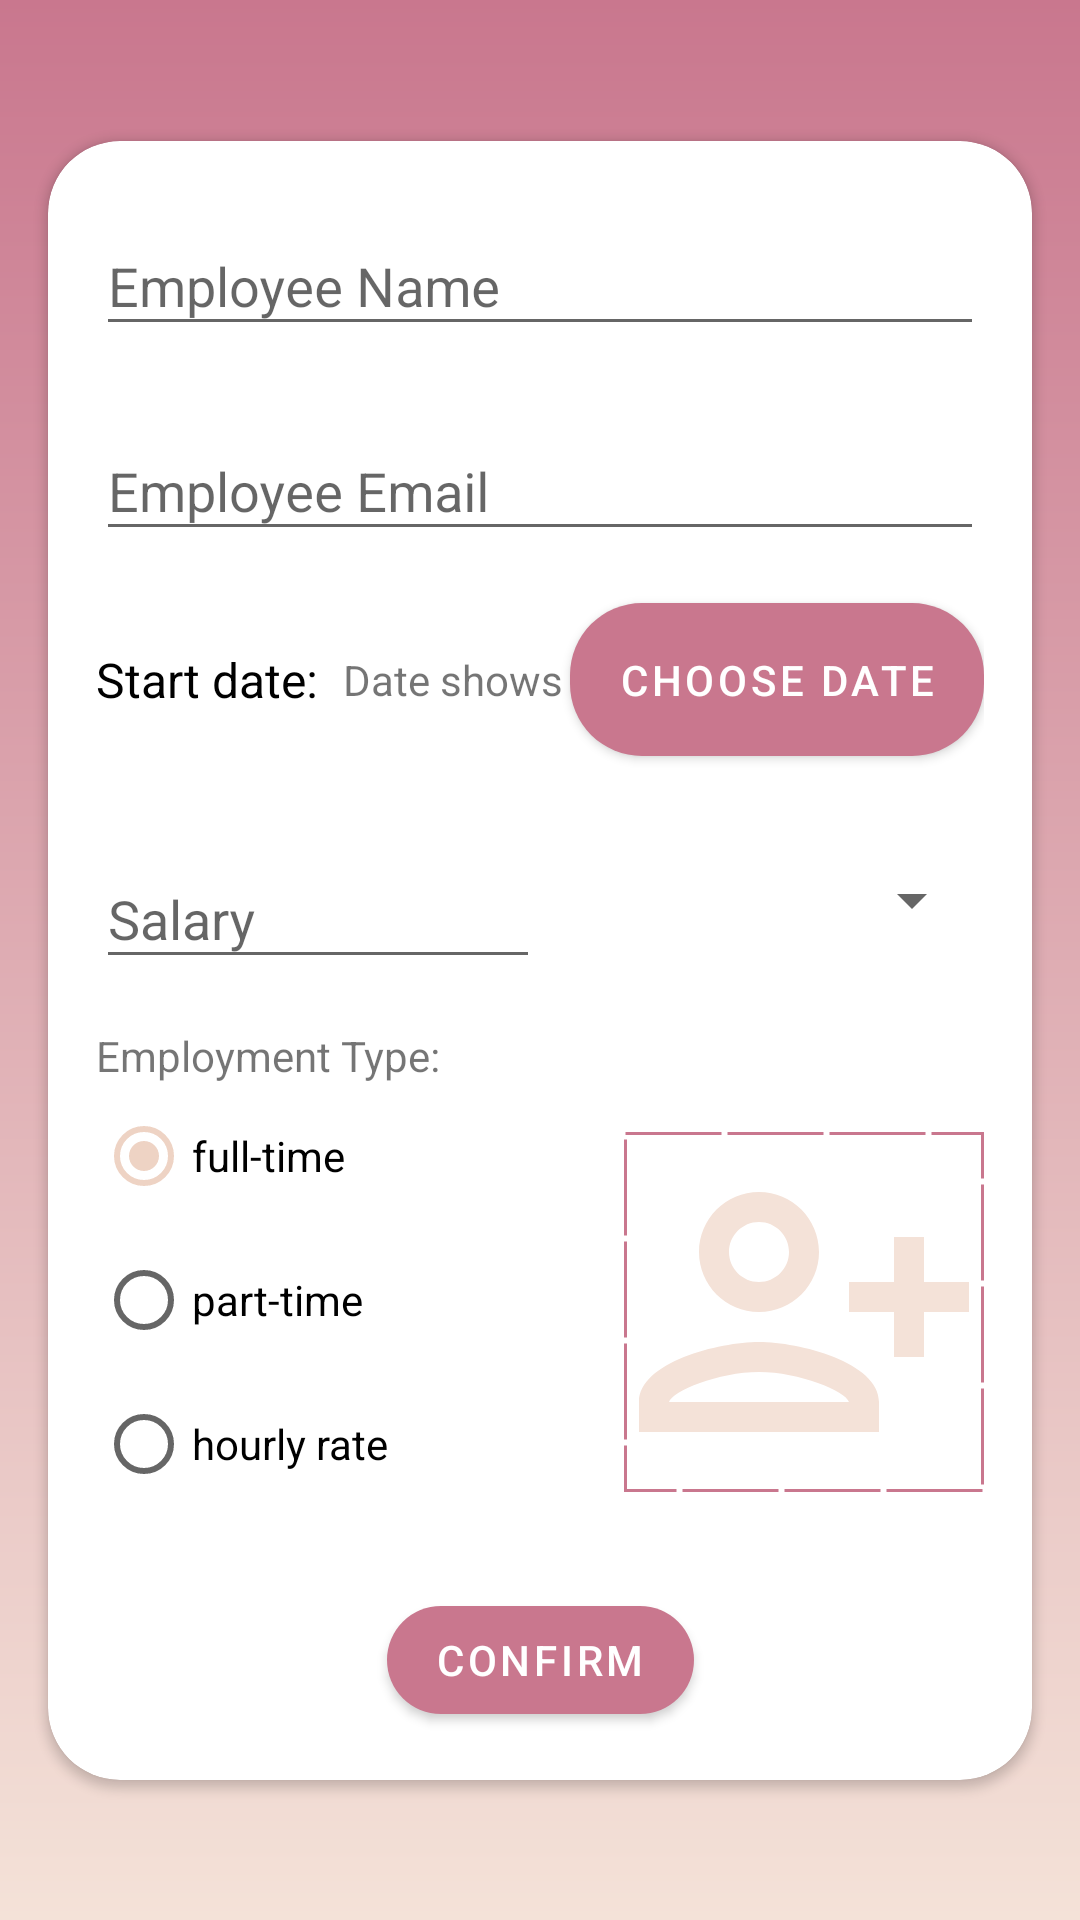

Icons on this 1080px×1920px Android screen, each with its box as (x1, y1, x2, y2):
add emp: (624, 1132, 984, 1492)
